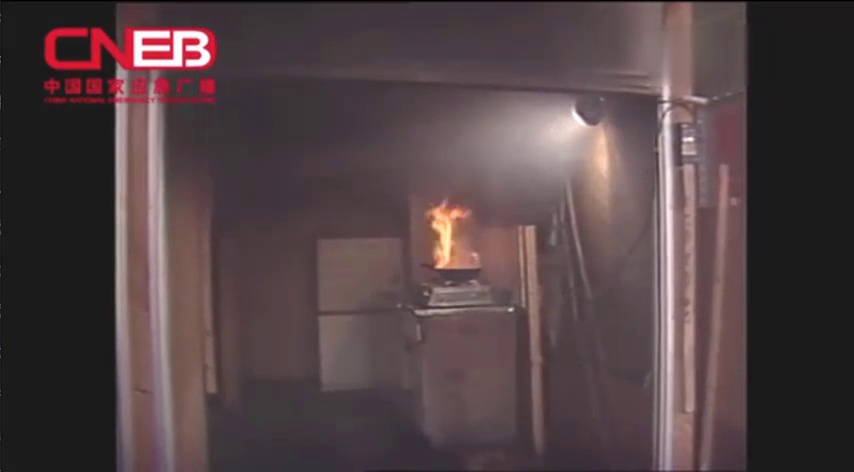fire: (416, 192, 487, 277)
